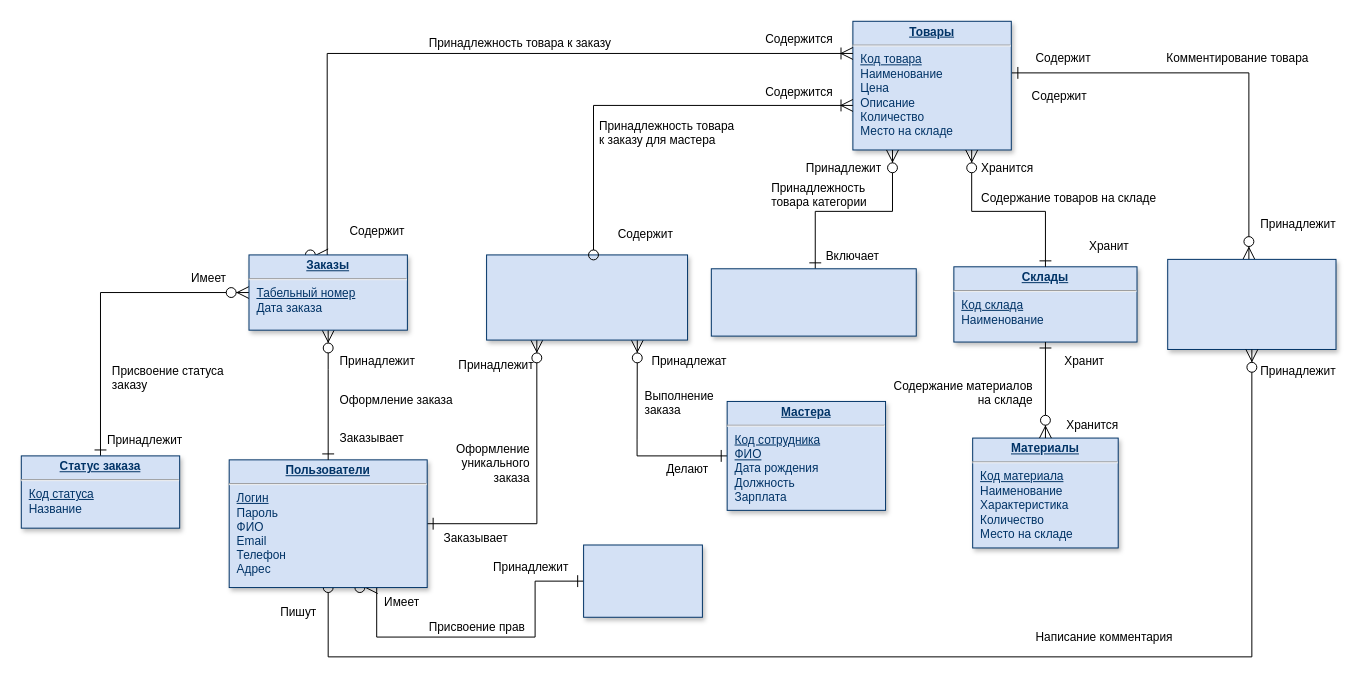
Image size: 1365x687. Some labels were removed from this diagram. The centre of each missing label's shape, as x and y in pixels:
"Заказы, отданные мастерам Табельный номер Дата поступления заказа Дата сдачи" belongs at (x=587, y=298).
"Категории товара Уникальный внутренний номер Полное наименование категории" belongs at (x=814, y=303).
"Комментарии к товару Код комментария Комментарий Дата" belongs at (x=1252, y=305).
"Права Код права Название права" belongs at (x=643, y=582).
